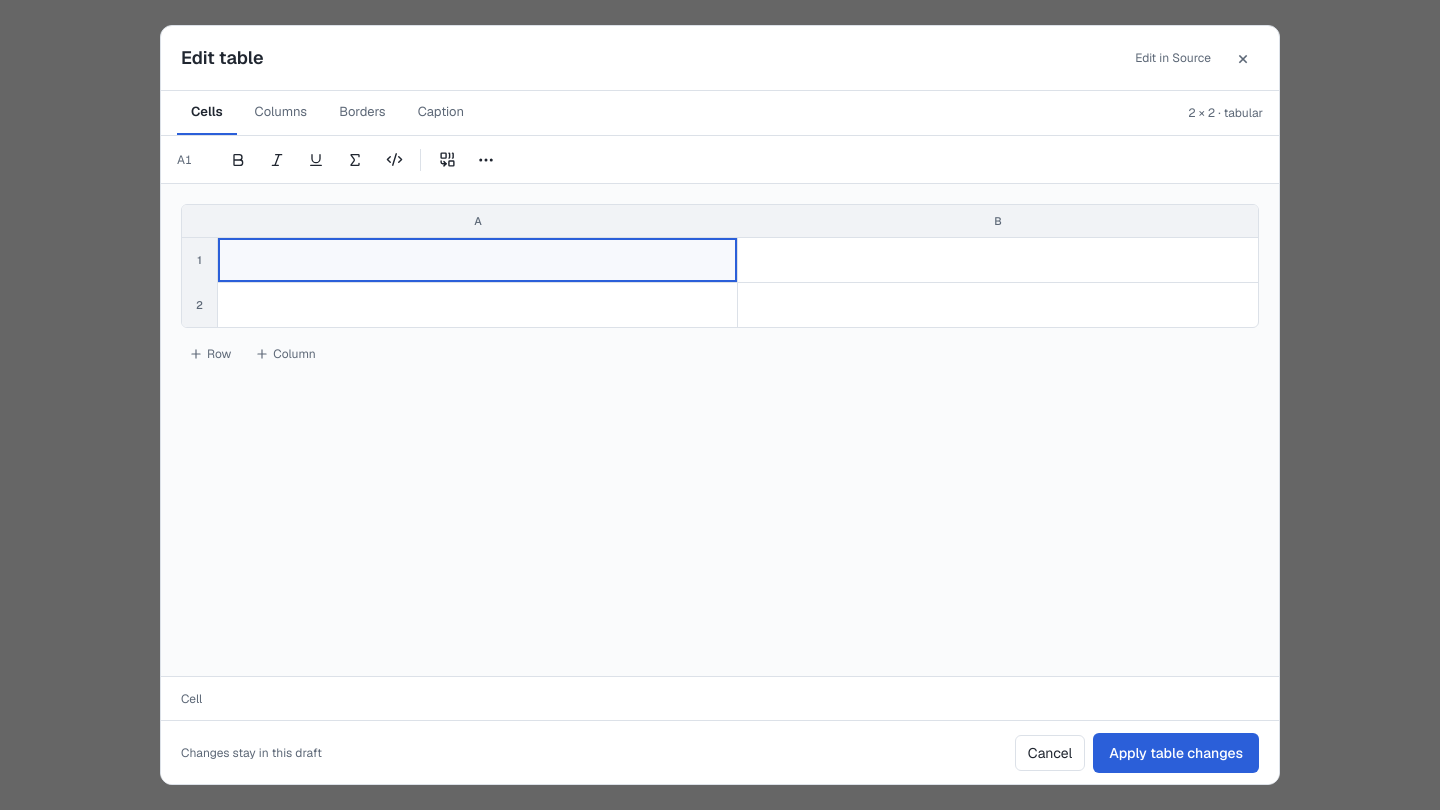
Test case: keeps the draft open after checkpoint refusal
Click the button "Apply table changes". click: (1176, 752)
box: left=1093, top=732, right=1259, bottom=772
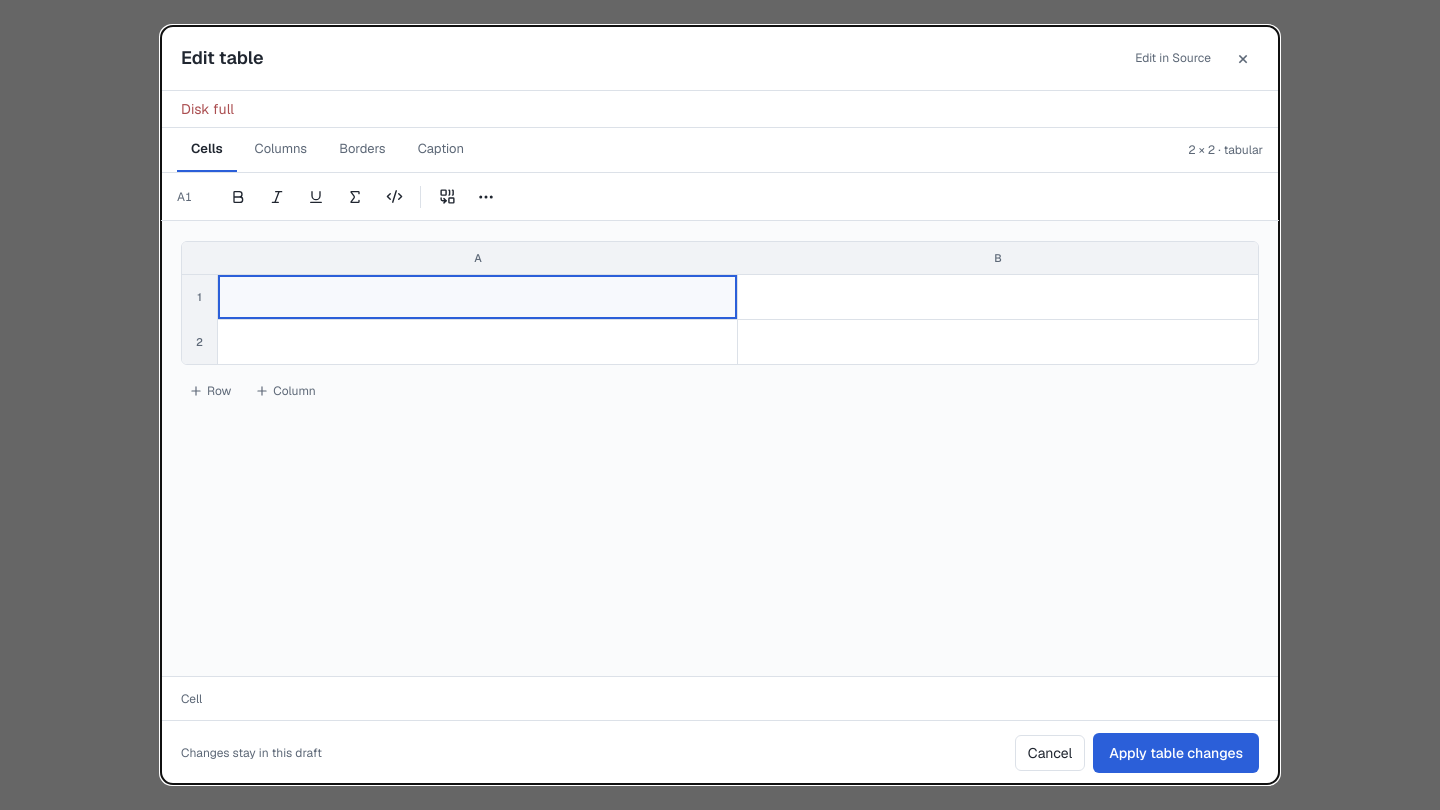
Now the message "Disk full" is shown, box left=161, top=91, right=1279, bottom=128
